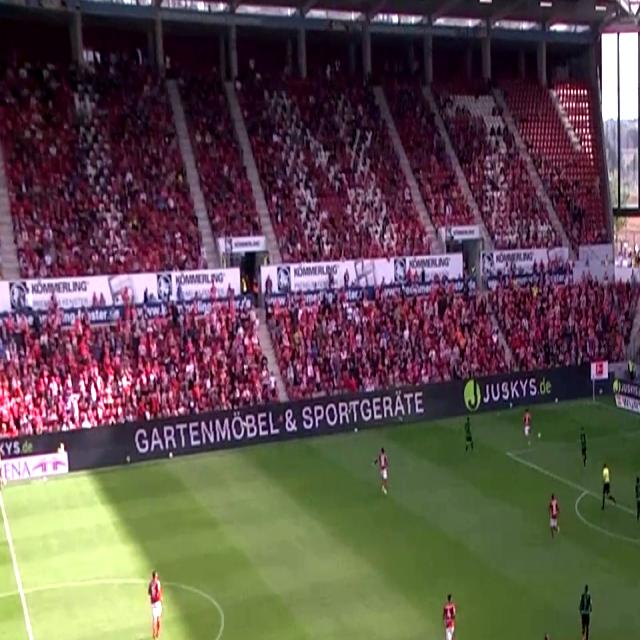ball: (535, 426, 543, 443)
referee: (594, 460, 616, 515)
soccer-player: (570, 576, 602, 640), (144, 564, 168, 640), (433, 586, 463, 640), (371, 442, 394, 501), (462, 398, 482, 457), (545, 490, 567, 542), (573, 422, 592, 470), (523, 407, 544, 448), (632, 470, 640, 524), (532, 630, 564, 640)
